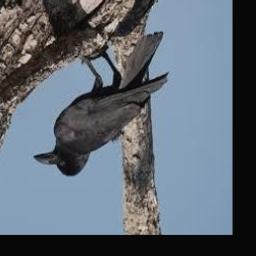Crow: (32, 30, 168, 177)
